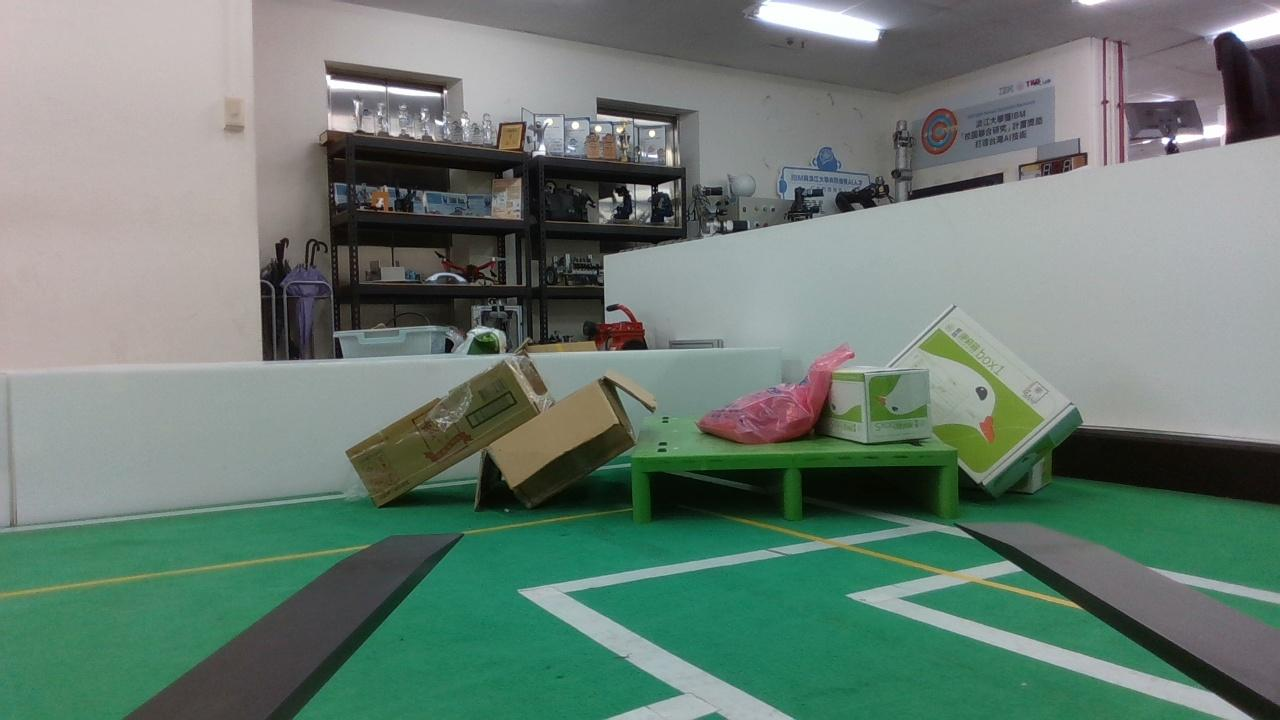Pallet: (627, 453, 962, 527)
